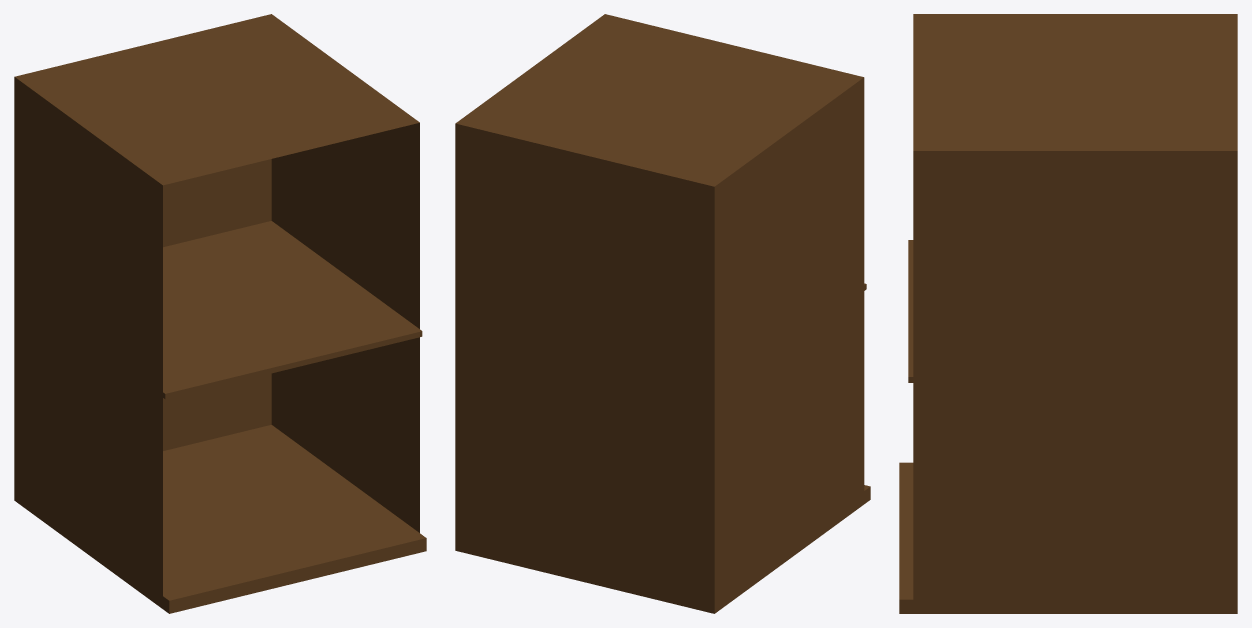
Rendered from locker2.fbx.
3 views of the same model, side by side, from view 1: azimuth 30°, elevation 25°; view 2: azimuth 150°, elevation 25°; view 3: azimuth 270°, elevation 25° (orthographic). The views are drawn at different scales.
Visible parts, largest first — view 1: Cube.011; view 2: Cube.011; view 3: Cube.011.
Boxes of the visible parts, x1,y1,x2,y2 form: Cube.011: [14, 14, 426, 613]; Cube.011: [455, 14, 870, 613]; Cube.011: [899, 14, 1237, 613].
Size of the model in its own units: 2000 by 3150 by 2085.
